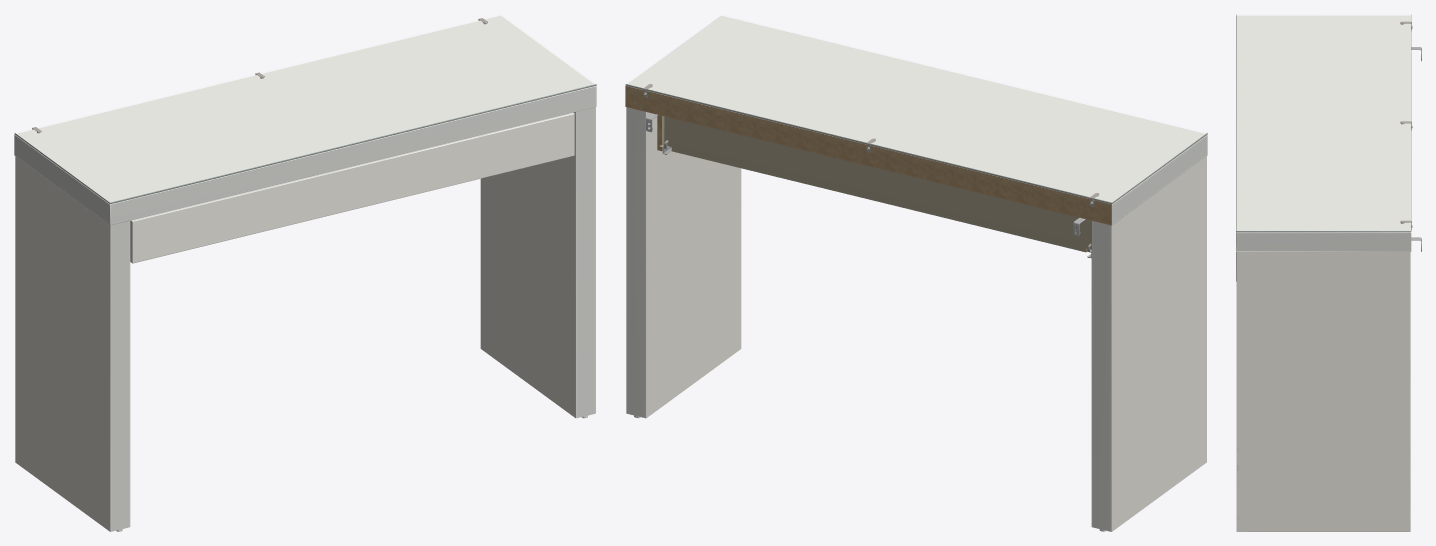
Rendered from 14 - MALM Dressing table - white 120x41 cm.glb.
3 views of the same model, side by side, from view 1: azimuth 30°, elevation 25°; view 2: azimuth 150°, elevation 25°; view 3: azimuth 270°, elevation 25° (orthographic). The views are drawn at different scales.
Visible parts, largest first — view 1: Mesh_0; view 2: Mesh_0; view 3: Mesh_0.
Boxes of the visible parts, <box> form: Mesh_0: <box>14,15,596,531</box>; Mesh_0: <box>625,16,1207,531</box>; Mesh_0: <box>1236,14,1421,531</box>.
Bounding box in the file's own units: 1.2 × 0.7838 × 0.4349.
Materials: 2 (1 with a texture image).
